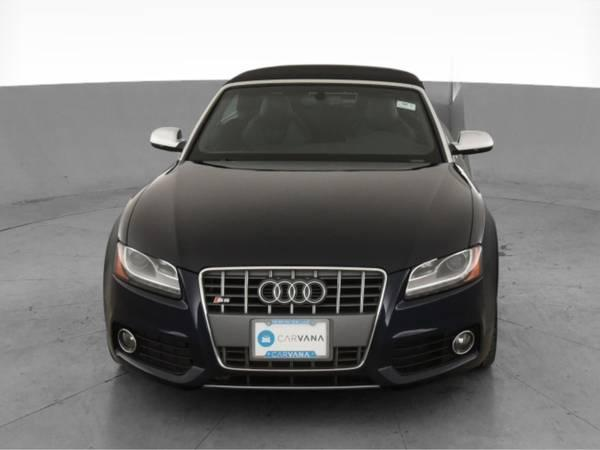Front_Bumper: (104, 229, 498, 388)
Front_Windshield: (182, 82, 448, 173)
Grille: (199, 262, 384, 369)
Hood: (114, 158, 491, 269)
Left_Headlight: (398, 239, 486, 302)
Left_Mirror: (457, 129, 496, 154)
Right_Headlight: (106, 236, 183, 306)
Right_Mirror: (148, 122, 183, 150)
Roof: (221, 62, 423, 88)
